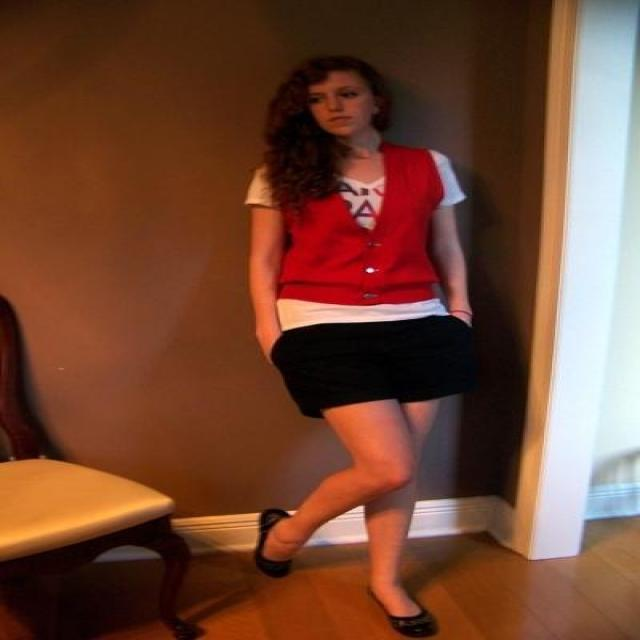jacket: (272, 149, 443, 305)
shirt: (245, 150, 470, 328)
shoe: (229, 525, 437, 639)
skirt: (272, 315, 469, 417)
